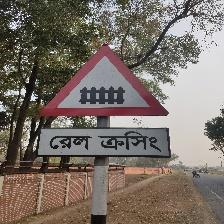Rail-crossing: (37, 42, 173, 159)
